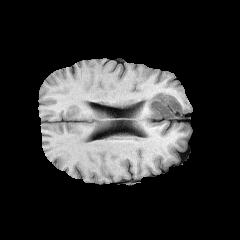glioma: (142, 92, 180, 119)
